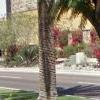Palm tree: (32, 2, 71, 95)
